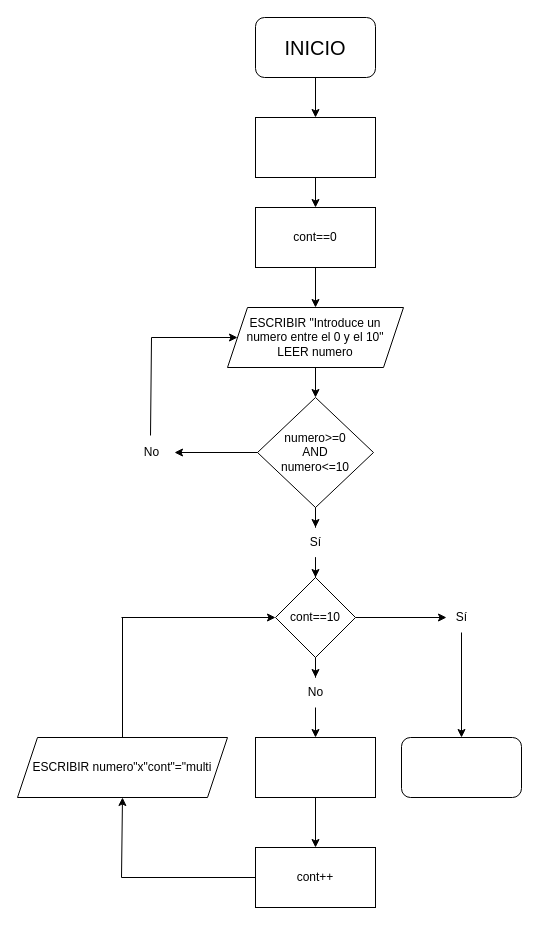
Some shapes in this 539 by 925 pixel diagram are drawn without their labels. Here are the shapes that lost their labels. From the top down, the centre of each, then its label:
At point (315, 147): "numero: ENTERO cont: ENTERO multi: ENTERO".
At point (315, 767): "multi==numero*cont".
At point (461, 767): "FIN".
